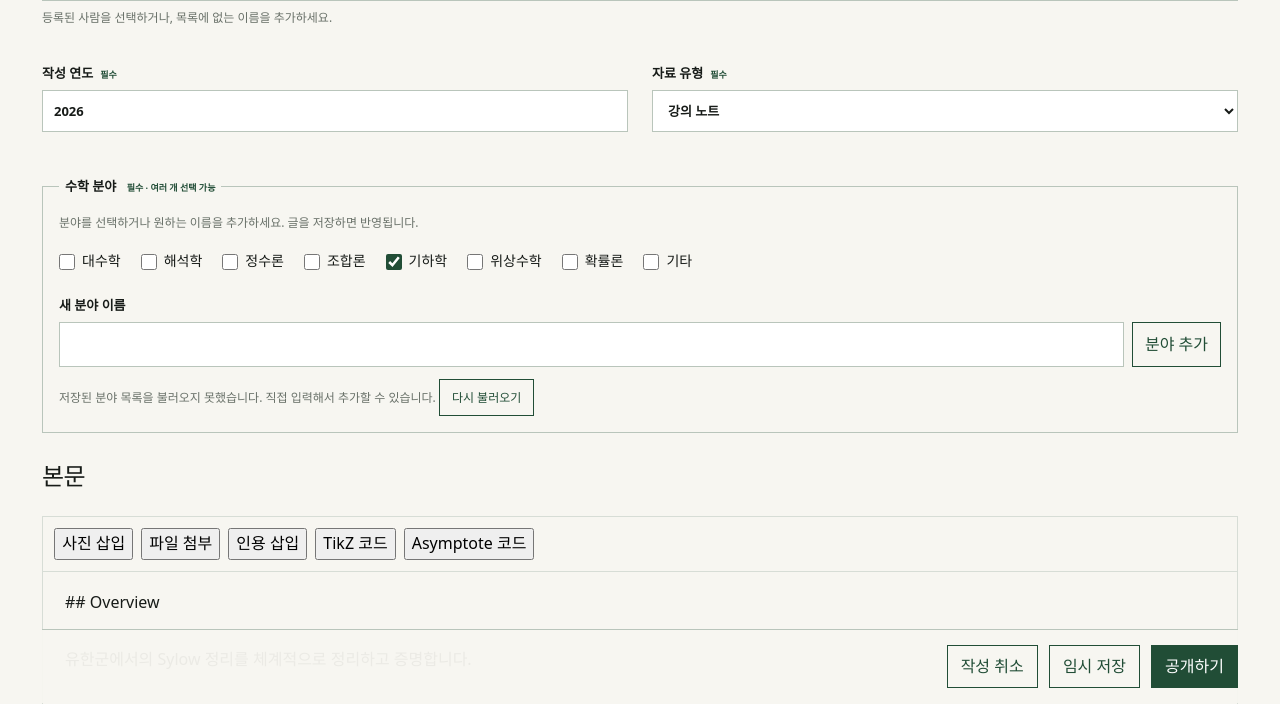
Test: still permits adding custom fields if loading saved suggestions fails
(page scrolled)
Expected: the text "저장된 분야 목록을 불러오지 못했습니다. 직접 입력해서 추가할 수 있습니다. 다시 불러오기" is shown, left=59, top=379, right=534, bottom=416
Type "새 분야" into the field labelled "새 분야 이름". click: (592, 344)
box: left=59, top=322, right=1124, bottom=367
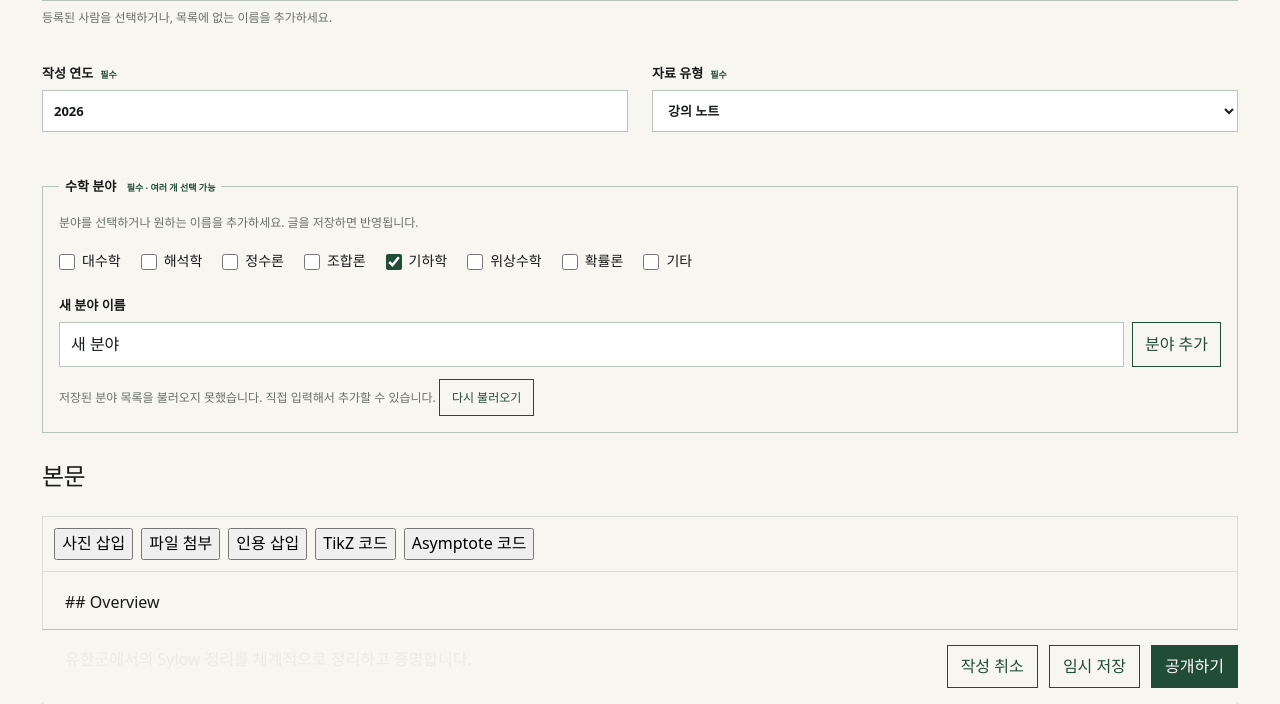
Click the button "분야 추가". click: (1176, 344)
box: left=1132, top=322, right=1221, bottom=367
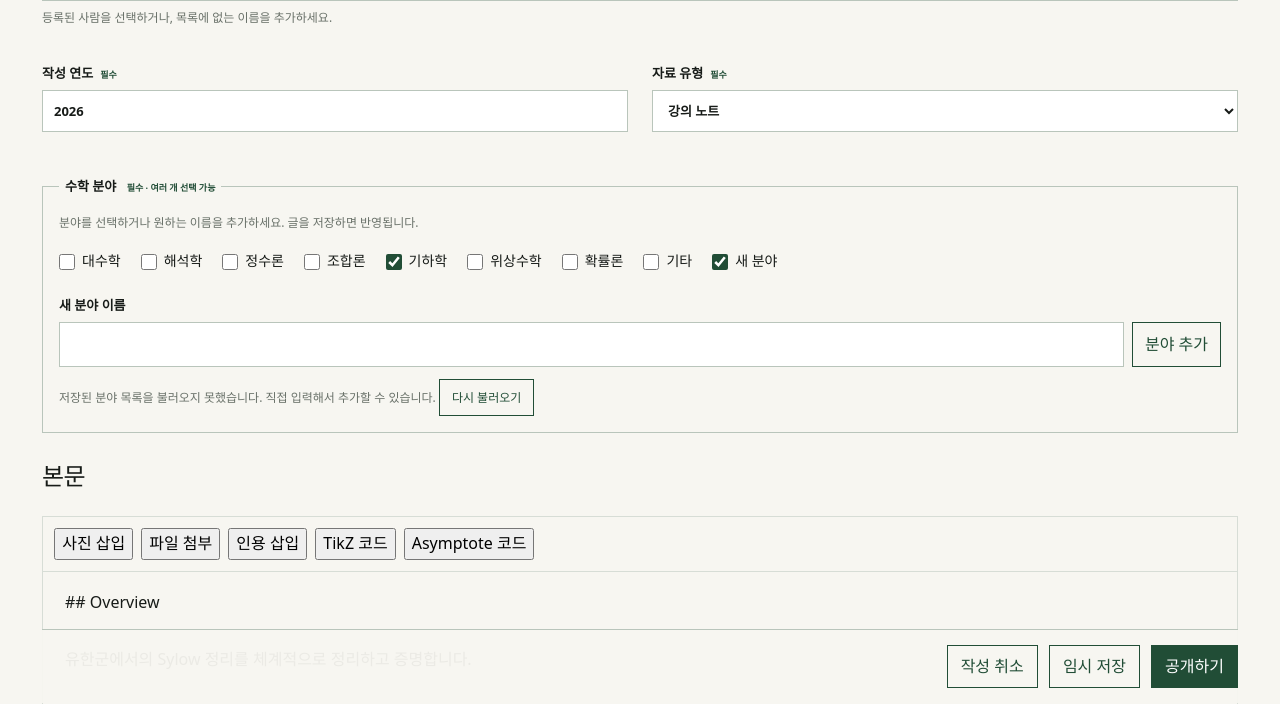
Expected: the checkbox labelled "기하학" is checked, left=386, top=254, right=402, bottom=270
Now the checkbox labelled "새 분야" is checked, box left=712, top=254, right=728, bottom=270
